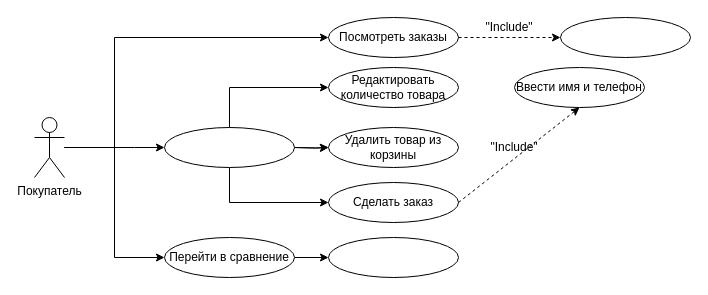
This 708x295 diagram has some shape labels left out. The box of each missing label's shape, as (x1, y1, x2, y2) in pixels:
Ввести телефон: (560, 16, 690, 58)
Перейти в корзину: (164, 126, 294, 168)
Удалить товар из сравнения: (328, 236, 458, 278)
